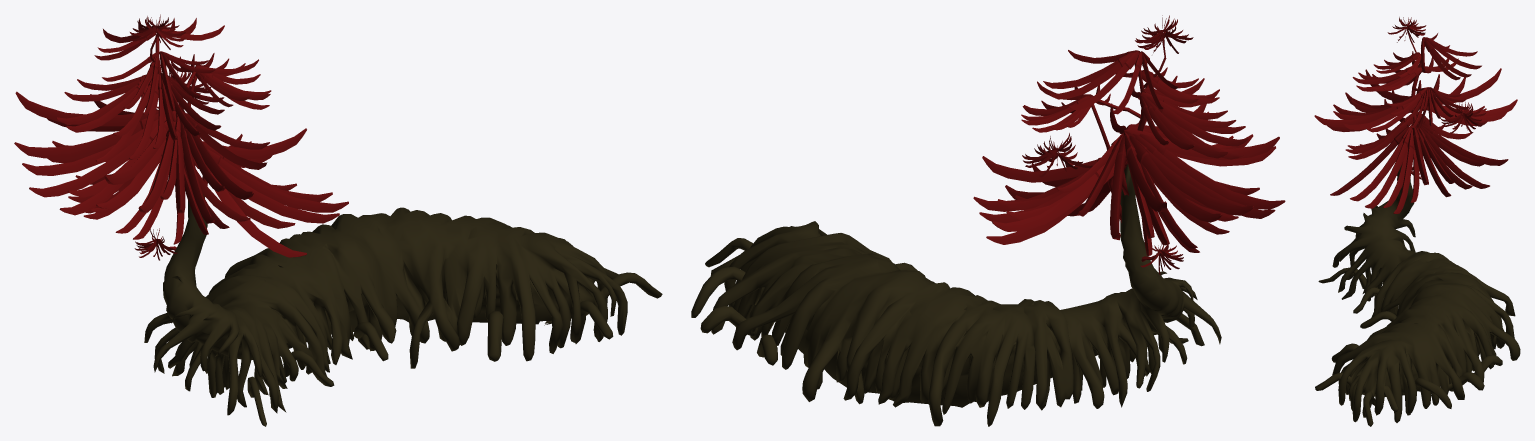
File: junTreeRedSneke.FBX
3 renders of one model, left to right at view 1: azimuth 30°, elevation 25°; view 2: azimuth 150°, elevation 25°; view 3: azimuth 270°, elevation 25°, orthographic. The views are drawn at different scales.
Parts seen in each view (by area): view 1: junTreeRedSneke_LOD0; view 2: junTreeRedSneke_LOD0; view 3: junTreeRedSneke_LOD0.
Part boxes in pixels (<box>): junTreeRedSneke_LOD0: <box>14,14,662,426</box>; junTreeRedSneke_LOD0: <box>691,15,1285,426</box>; junTreeRedSneke_LOD0: <box>1314,17,1520,426</box>.
Size of what is drawn, in the model's own units: 22.1 by 14.09 by 9.88.
